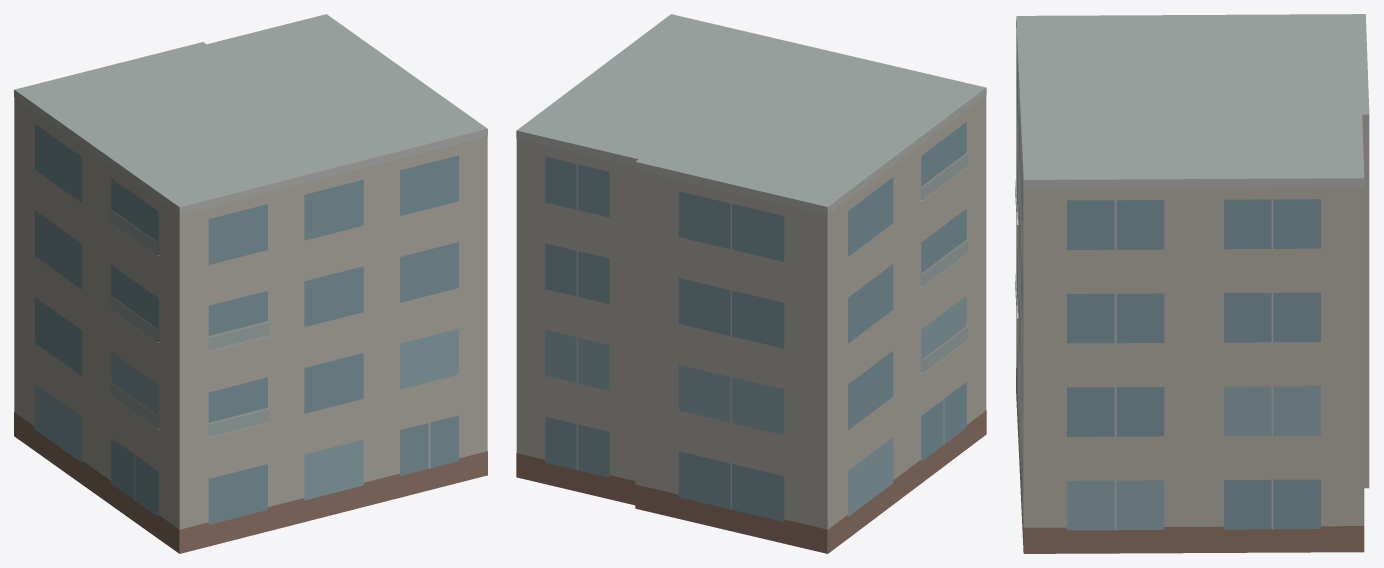
Rendered from survey-upis-32925240.glb.
3 views of the same model, side by side, from view 1: azimuth 30°, elevation 25°; view 2: azimuth 150°, elevation 25°; view 3: azimuth 270°, elevation 25° (orthographic). The views are drawn at different scales.
Parts seen in each view (by area): view 1: survey-upis-32925240.tmp; view 2: survey-upis-32925240.tmp; view 3: survey-upis-32925240.tmp.
Boxes of the visible parts, x1=… form: survey-upis-32925240.tmp: x1=14, y1=14, x2=487, y2=553; survey-upis-32925240.tmp: x1=516, y1=14, x2=986, y2=553; survey-upis-32925240.tmp: x1=1015, y1=14, x2=1369, y2=553.
Bounding box in the file's own units: 10.19 × 10.7 × 9.19.
